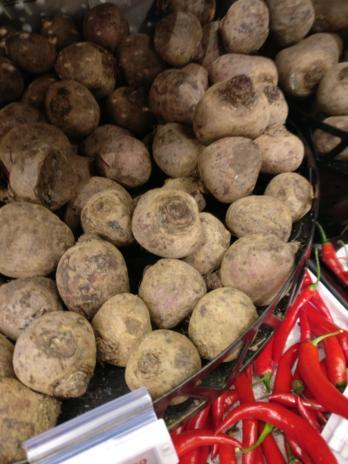beetroot: (4, 0, 348, 160), (8, 166, 198, 383), (194, 155, 291, 323)
